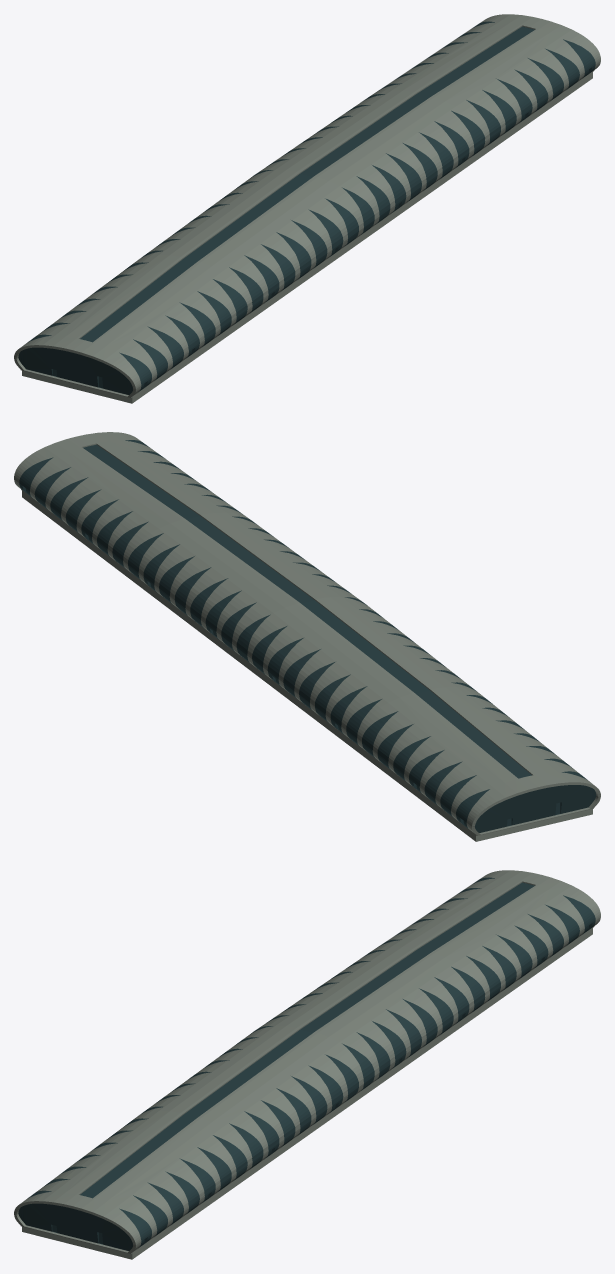
File: ConA.obj
3 renders of one model, top to bottom at view 1: azimuth 90°, elevation 25°; view 2: azimuth 150°, elevation 25°; view 3: azimuth 270°, elevation 25°, orthographic. The views are drawn at different scales.
Bounding box in the file's own units: 624 × 42.78 × 431.
